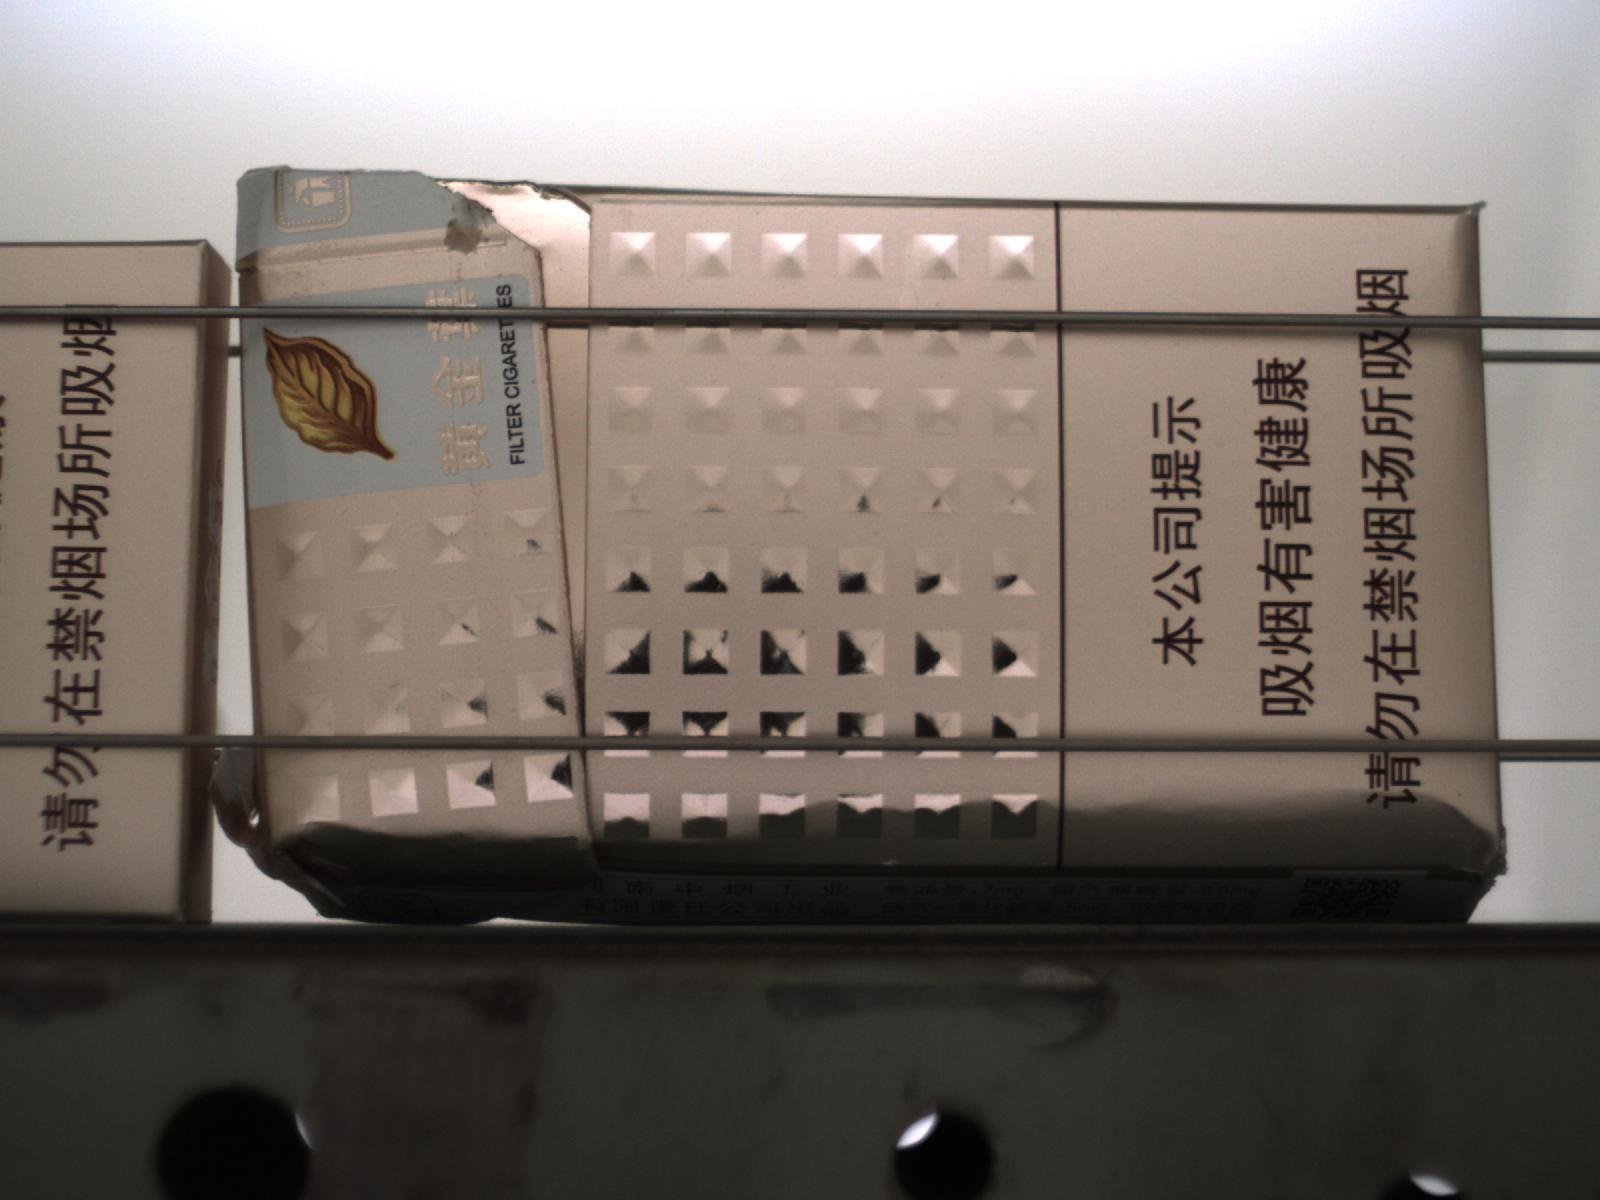boxDamage_front: (583, 788, 1512, 928)
dirtySpot: (1173, 340, 1182, 349)
headUpwarp_upper_01: (232, 164, 547, 257)
lower_upwarp: (238, 829, 583, 923)
skewedOpen: (529, 201, 602, 720)
